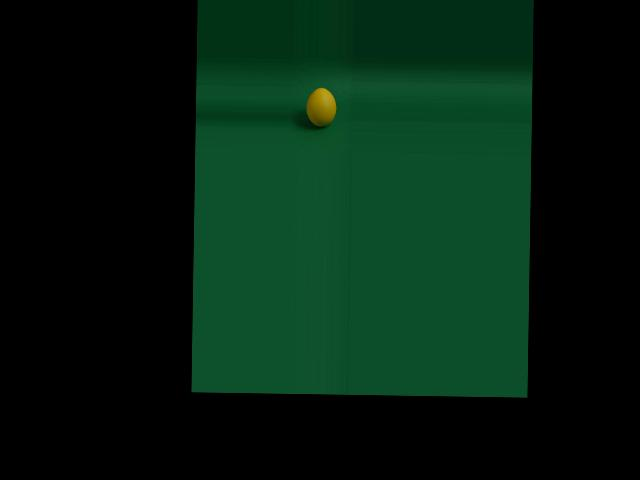egg: (307, 87, 337, 127)
